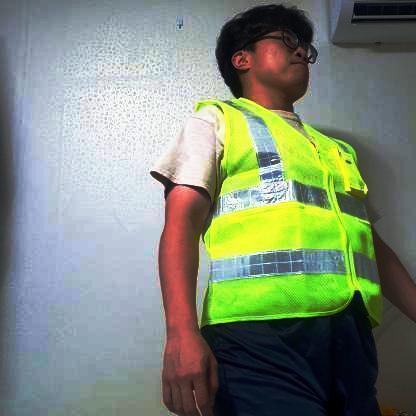no-helmet: (215, 0, 317, 77)
vest: (193, 95, 385, 333)
